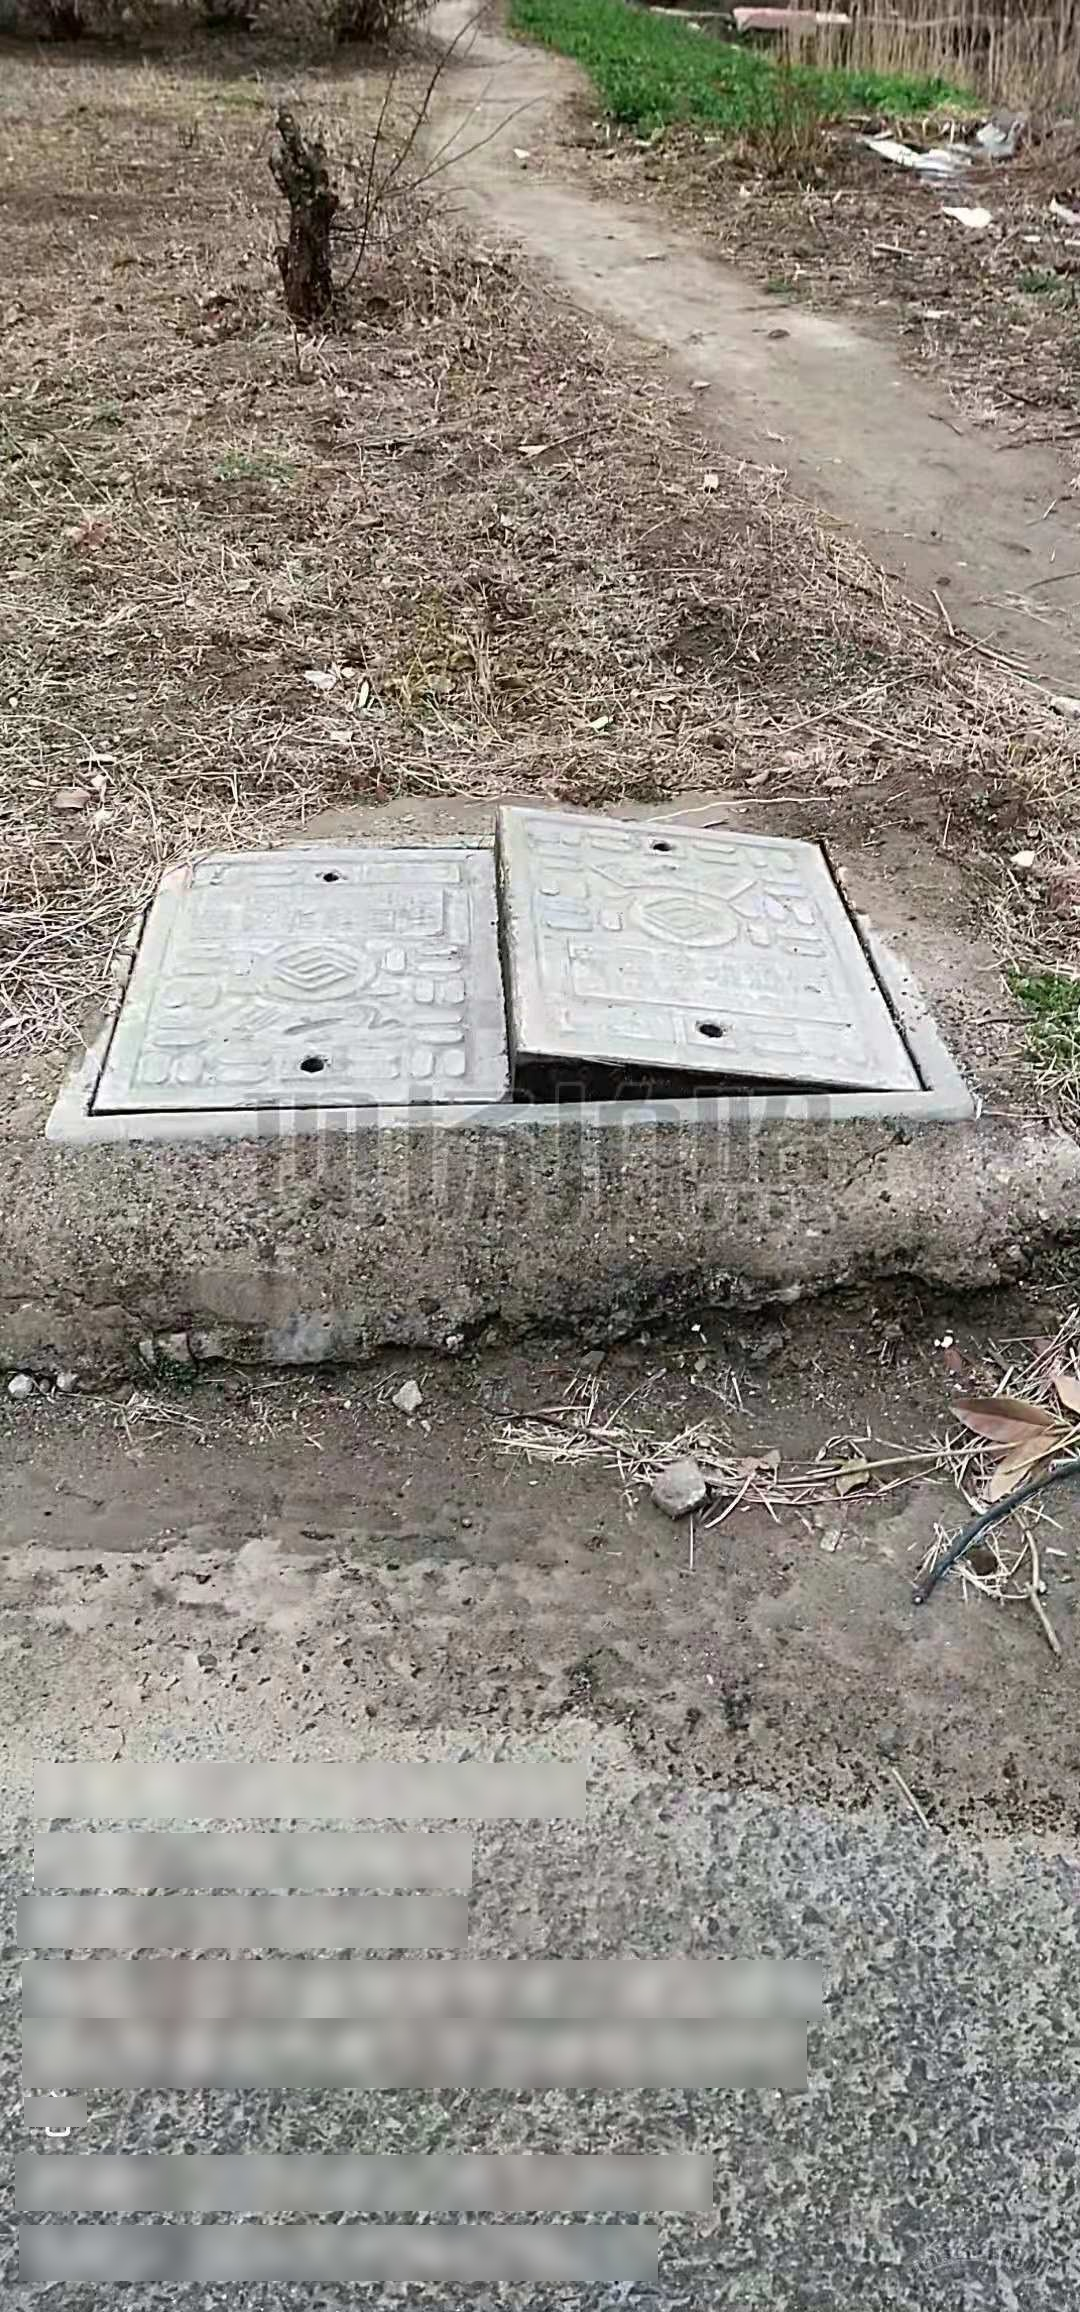uncovered: (41, 807, 984, 1138)
